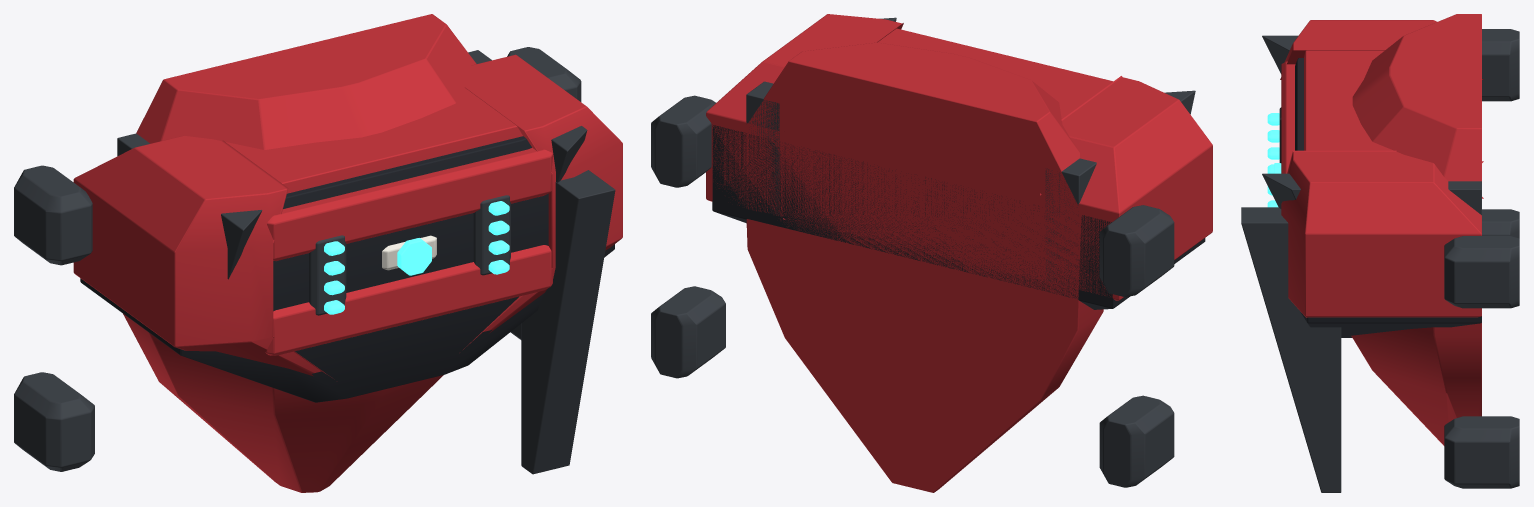
The model's file is LowerArmFront_Set10_Aegis.fbx.
The picture shows the model from 3 angles, left to right: view 1: azimuth 30°, elevation 25°; view 2: azimuth 150°, elevation 25°; view 3: azimuth 270°, elevation 25°; orthographic projection. The views are drawn at different scales.
Visible parts, largest first — view 1: LowerArmFront_Set10_Aegis; view 2: LowerArmFront_Set10_Aegis; view 3: LowerArmFront_Set10_Aegis.
Part boxes in pixels (x1,y1,x2,y2): LowerArmFront_Set10_Aegis: (14, 14, 622, 492); LowerArmFront_Set10_Aegis: (651, 14, 1212, 492); LowerArmFront_Set10_Aegis: (1241, 14, 1519, 492).
Size of the model in its own units: 0.43 by 0.33 by 0.2218.
